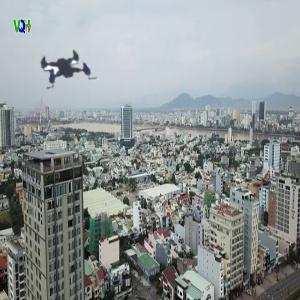drone: (17, 21, 115, 119)
